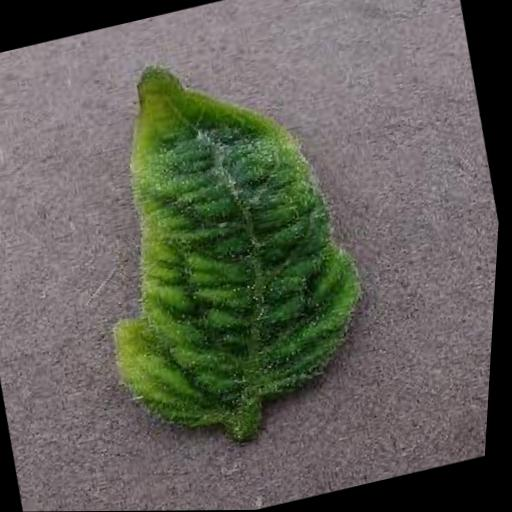Yellow Leaf Curl Virus: (49, 24, 400, 446)
